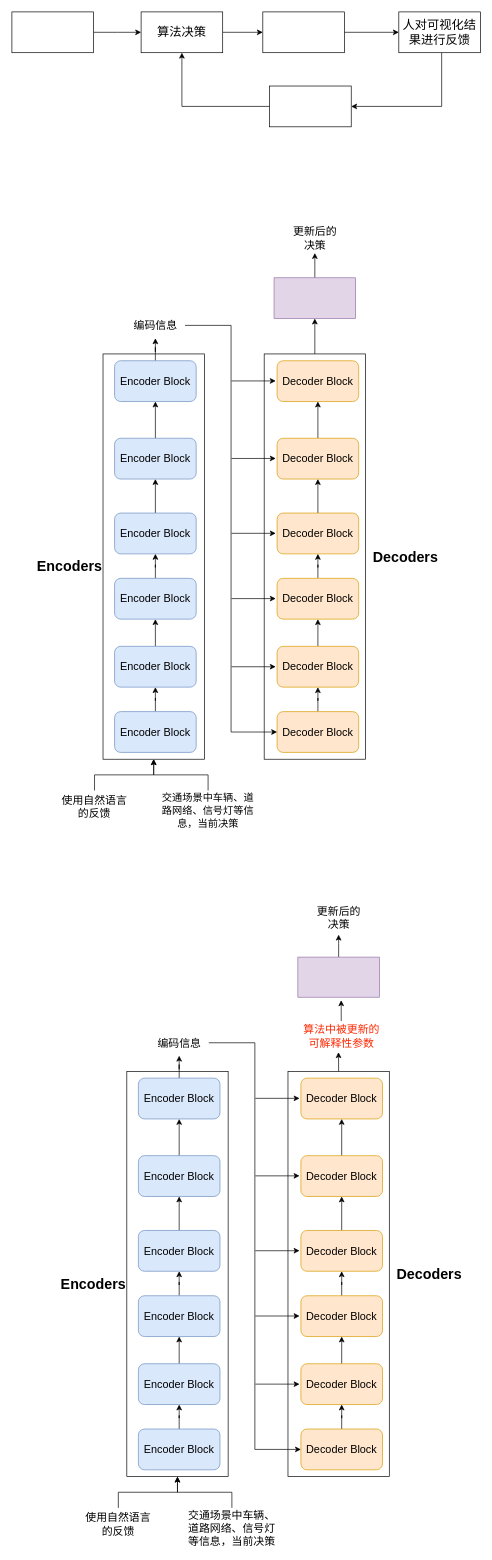
Some shapes in this 492 by 1560 pixel diagram are drawn without their labels. Here are the shapes that lost their labels. From the top down, the centre of each, then its label:
At (52,32): "建立交通仿真模型".
At (303,32): "交通仿真模型推演，展示推演结果".
At (310,106): "根据人工反馈更新算法，从而优化模型".
At (314,298): "基于深度学习的交通决策算法".
At (338,976): "交通决策算法".
